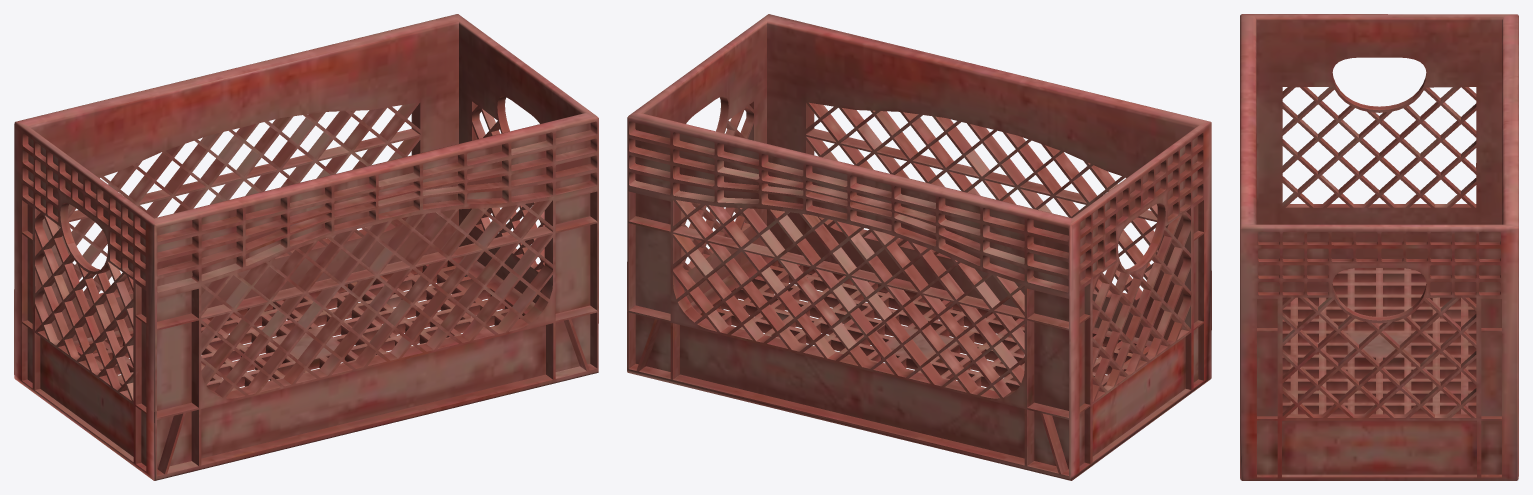
The model's file is plastic_crate_03.glb.
The picture shows the model from 3 angles, left to right: view 1: azimuth 30°, elevation 25°; view 2: azimuth 150°, elevation 25°; view 3: azimuth 270°, elevation 25°; orthographic projection.
Visible parts, largest first — view 1: plastic_crate_03; view 2: plastic_crate_03; view 3: plastic_crate_03.
Boxes of the visible parts, <box> form: plastic_crate_03: <box>14,14,598,480</box>; plastic_crate_03: <box>627,14,1211,480</box>; plastic_crate_03: <box>1240,14,1518,480</box>.
Size of the model in its own units: 0.4811 by 0.266 by 0.265.
Materials: 1 (1 with a texture image).
